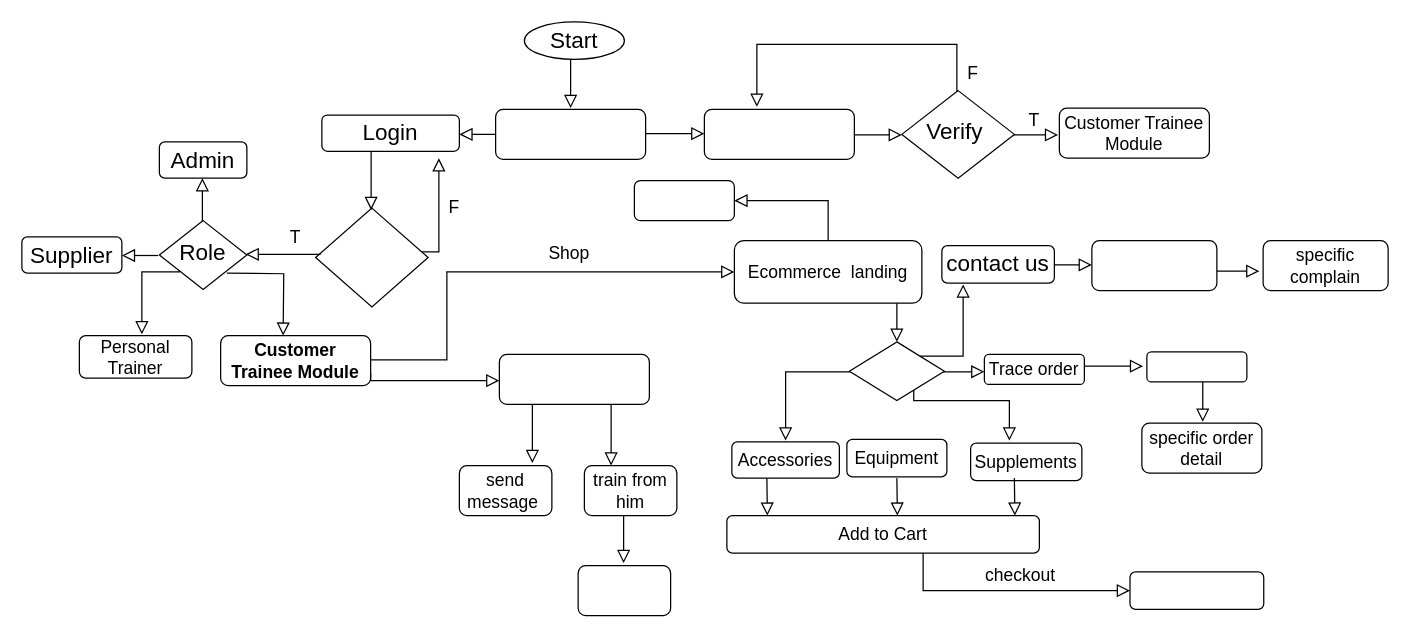
Some shapes in this 1410 by 638 pixel diagram are drawn without their labels. The shapes that lost their labels are listed below. From the top down, each one's box as (x1, y1, x2, y2) in pixels, then its label:
(494, 108, 646, 159): Guest Page
(703, 108, 854, 159): Registration
(633, 179, 734, 221): Search
(314, 207, 428, 307): Validation
(1091, 239, 1217, 291): view recent complain
(498, 353, 649, 404): list of trainer profile
(848, 341, 944, 401): Select
(1146, 351, 1247, 382): Total Order
(577, 564, 671, 616): scheduling
(1129, 571, 1264, 609): Payment Detail
